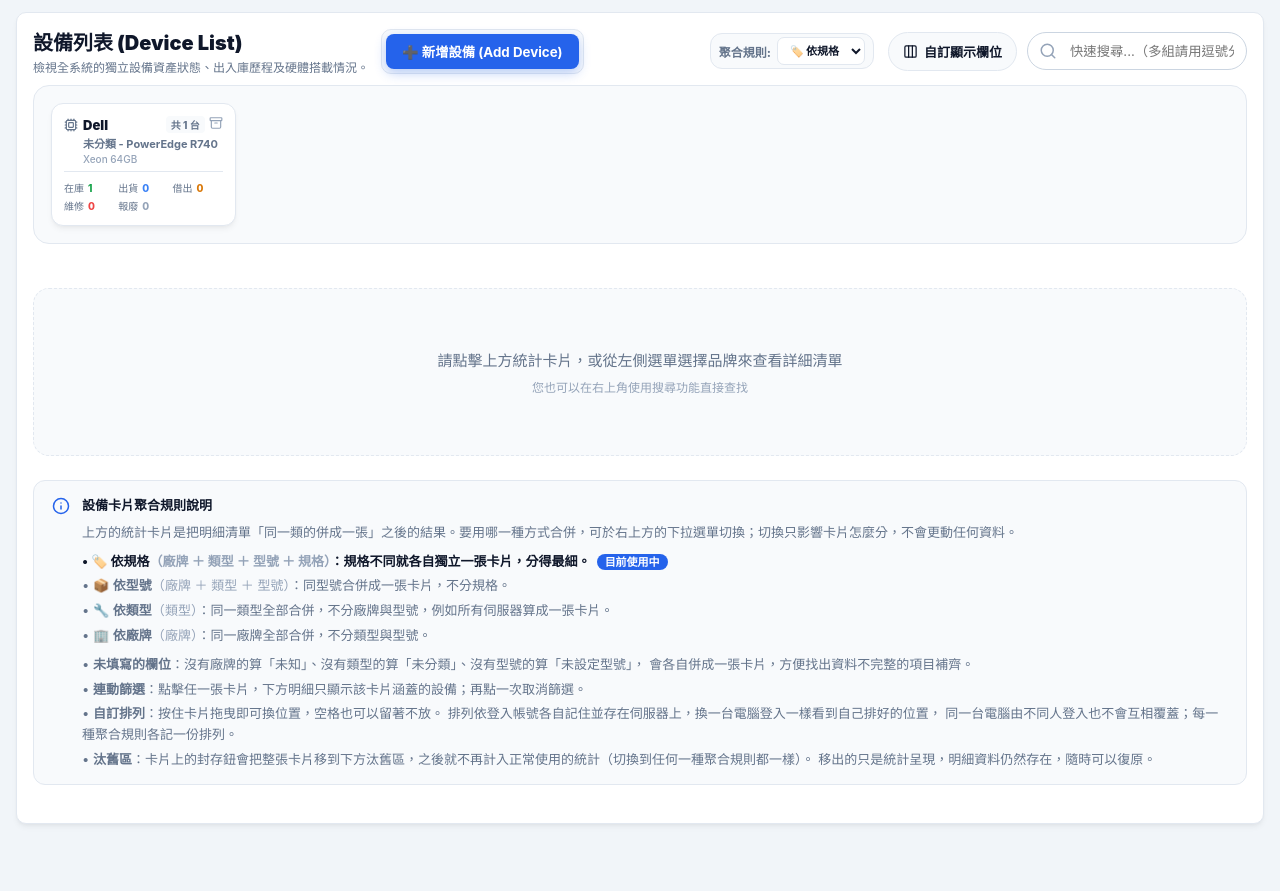
Scenario: 設備更新狀態同步至掛載硬體之整合測試 › 設備即使沒有 components，若 custom_attributes 內有 mounted_hw_sns，開啟編輯彈窗時應能正確載入該序號
The width and height of the screenshot is (1280, 891).
Click the text "Dell" at [86, 124], box [64, 116, 108, 132]
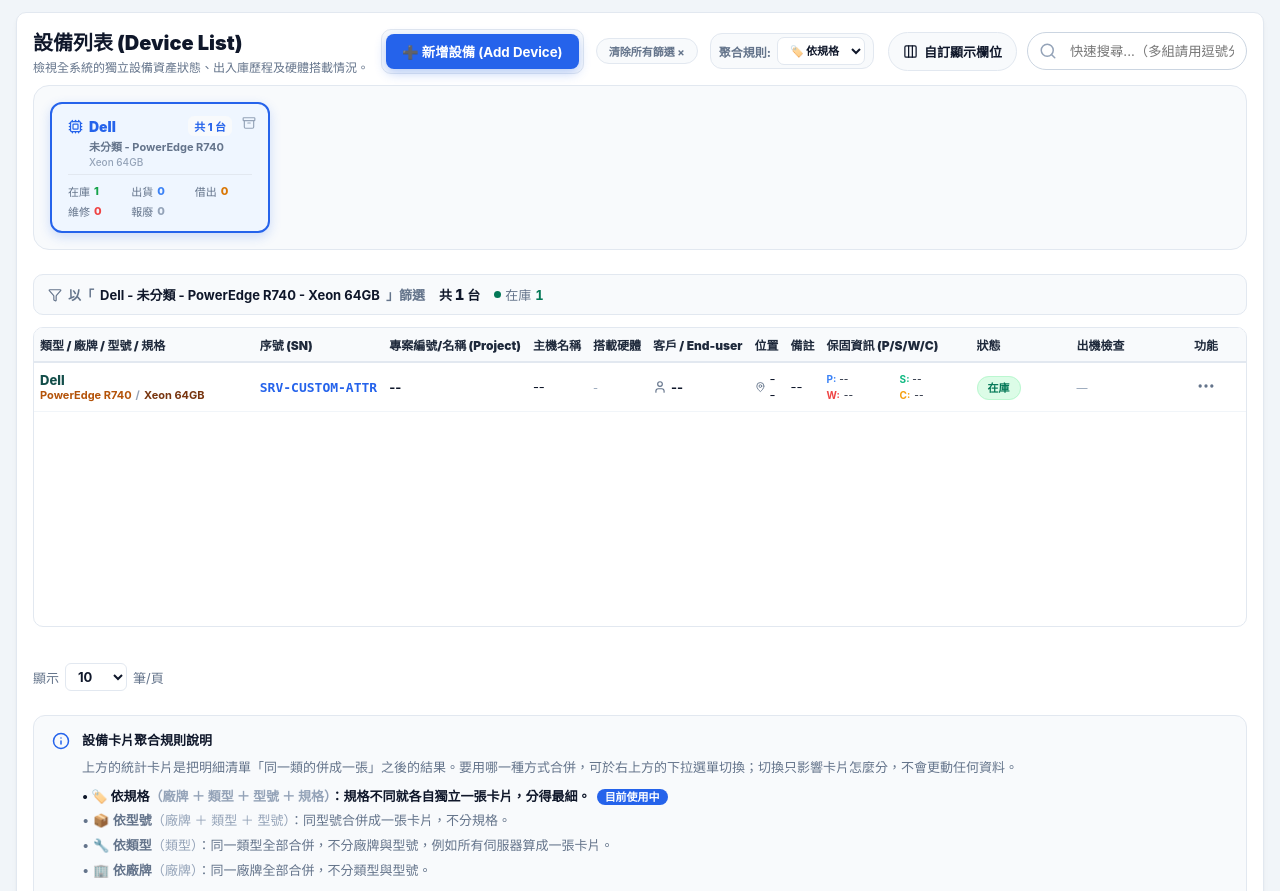
Check: the text "SRV-CUSTOM-ATTR" is shown, box [254, 362, 383, 412]
Click the button with class "lucide-ellipsis" at [1206, 387], box [1196, 376, 1216, 398]
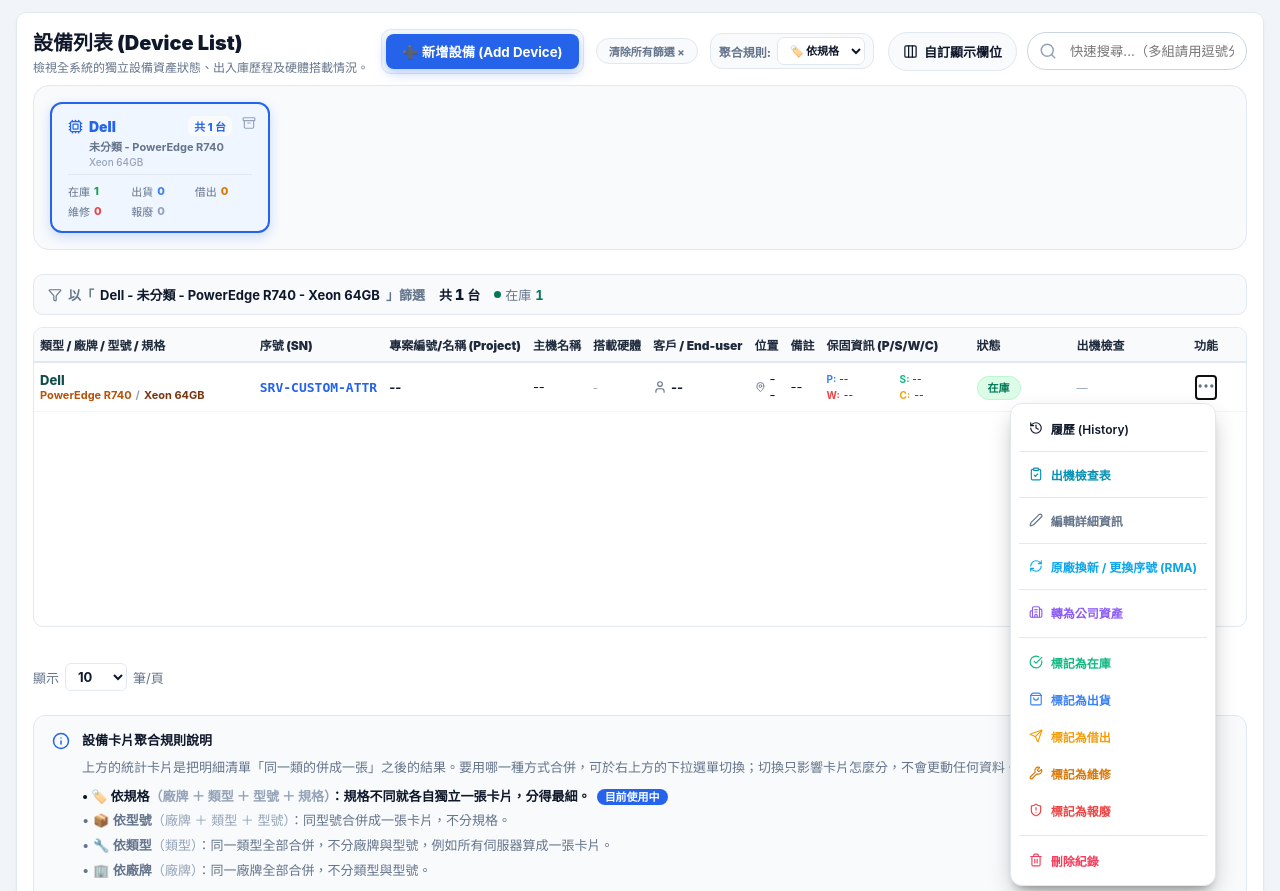
Click the button "編輯詳細資訊" at [1113, 520], box [1019, 504, 1207, 536]
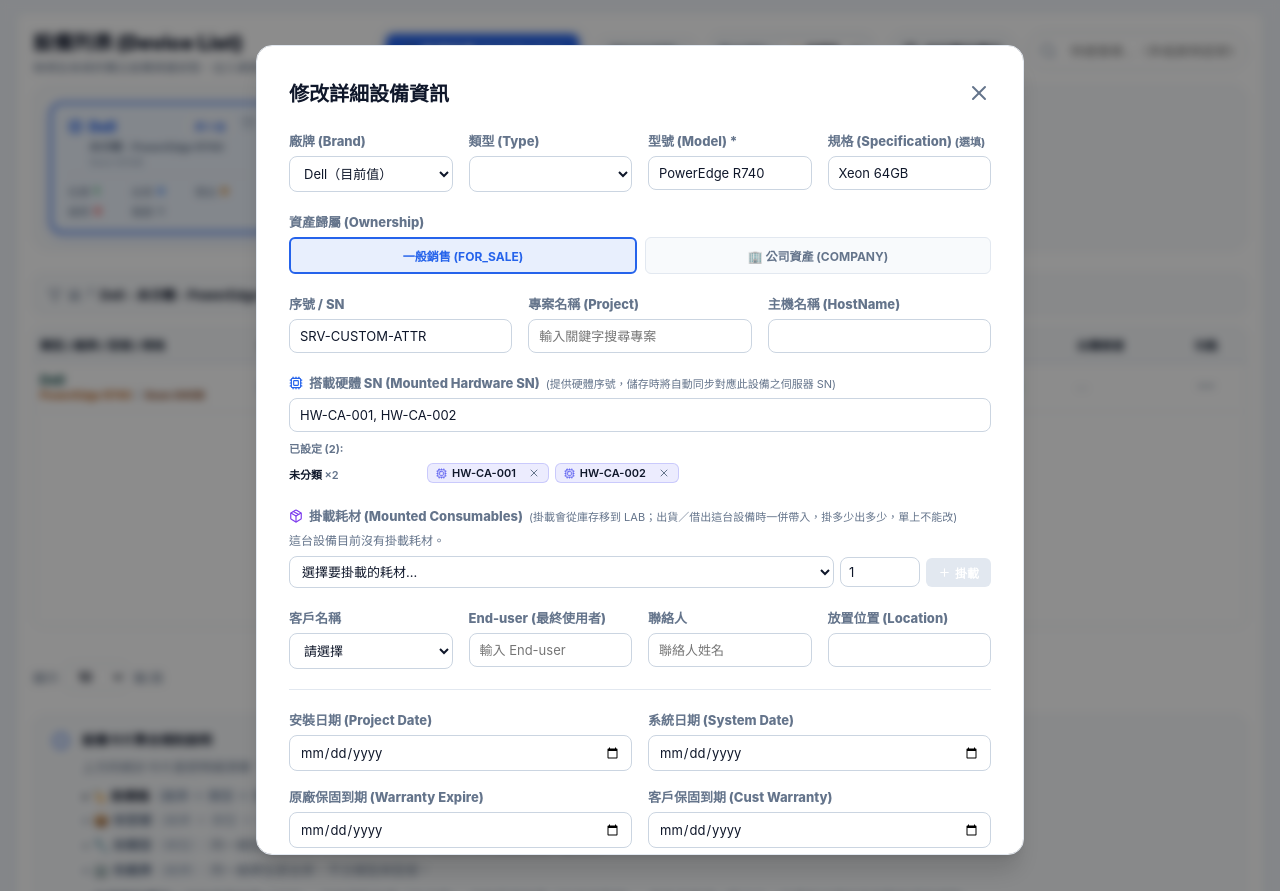
Check: the heading "修改詳細設備資訊" is shown, box [289, 78, 449, 107]
